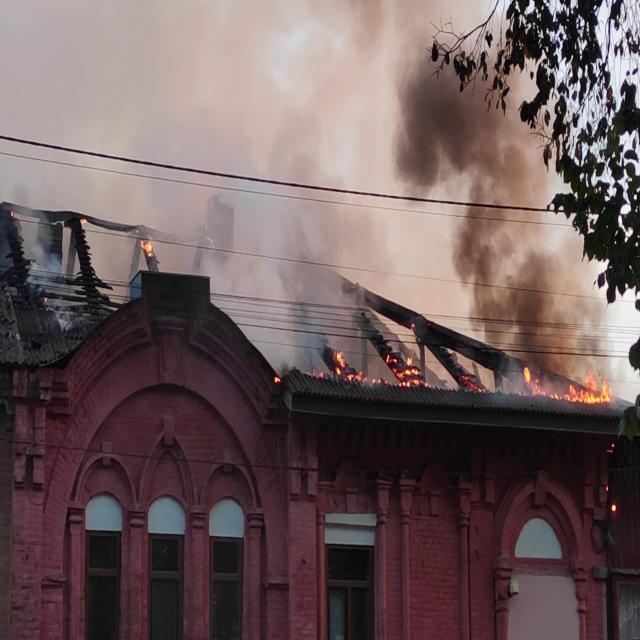fire: (556, 373, 612, 407), (382, 354, 422, 388)
smoke: (402, 72, 562, 327), (226, 193, 294, 306)
